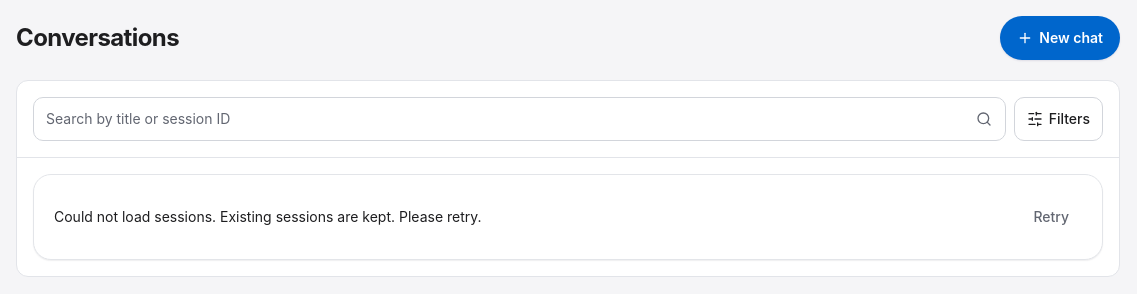
Test: sessions 登录边界 › 初始错误不误报空会话，重试可恢复且恢复链接安全
Expected: the message shows "Could not load sessions", [54,208,482,225]
Click the button "Retry". click: [1051, 217]
box: [1020,195,1082,239]
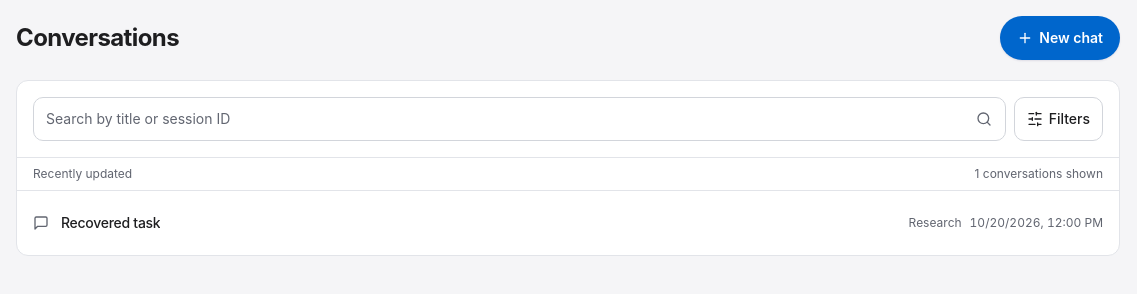
Result: the message "Could not load sessions. Existing sessions are kept. Please retry. Retry" is gone
